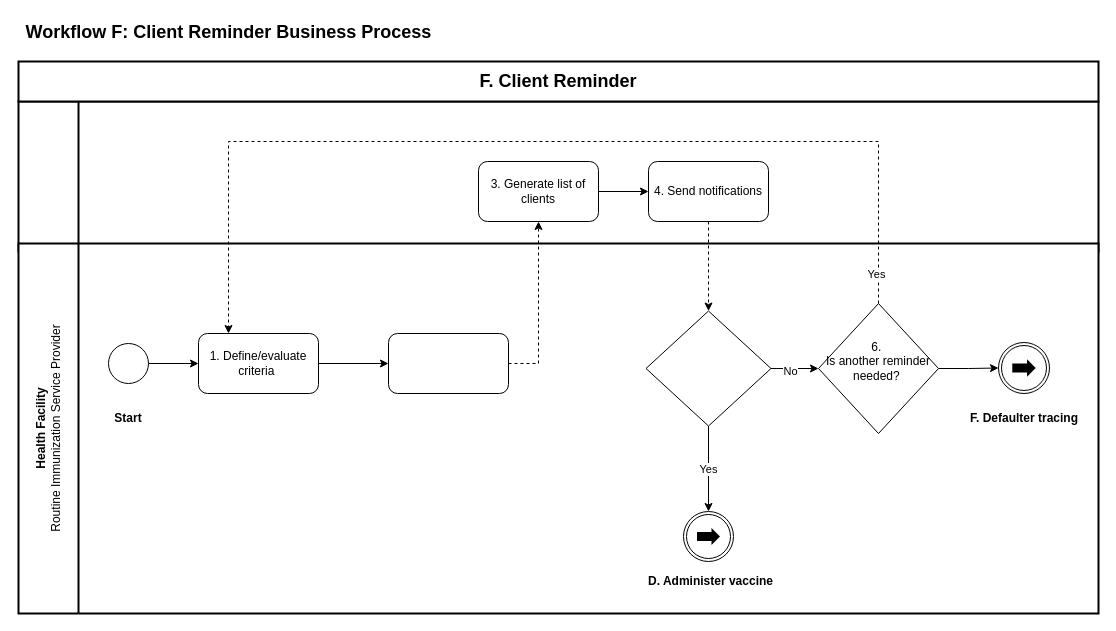
Image size: 1116x631. Some labels were removed from this diagram. Each missing label, with the box of its shape:
2. Select notification method: (388, 332, 508, 394)
5. Client shows up for vaccination?: (645, 310, 771, 426)
Electronic immunization registry: (17, 100, 1099, 252)
